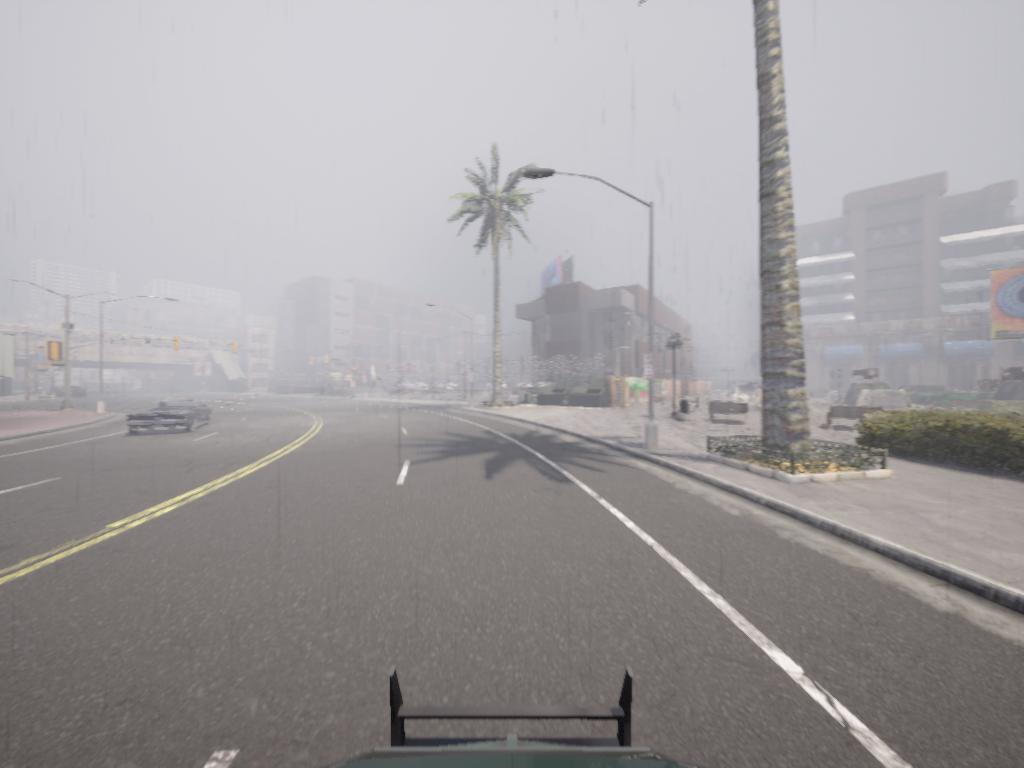traffic_light: (175, 336, 184, 350)
